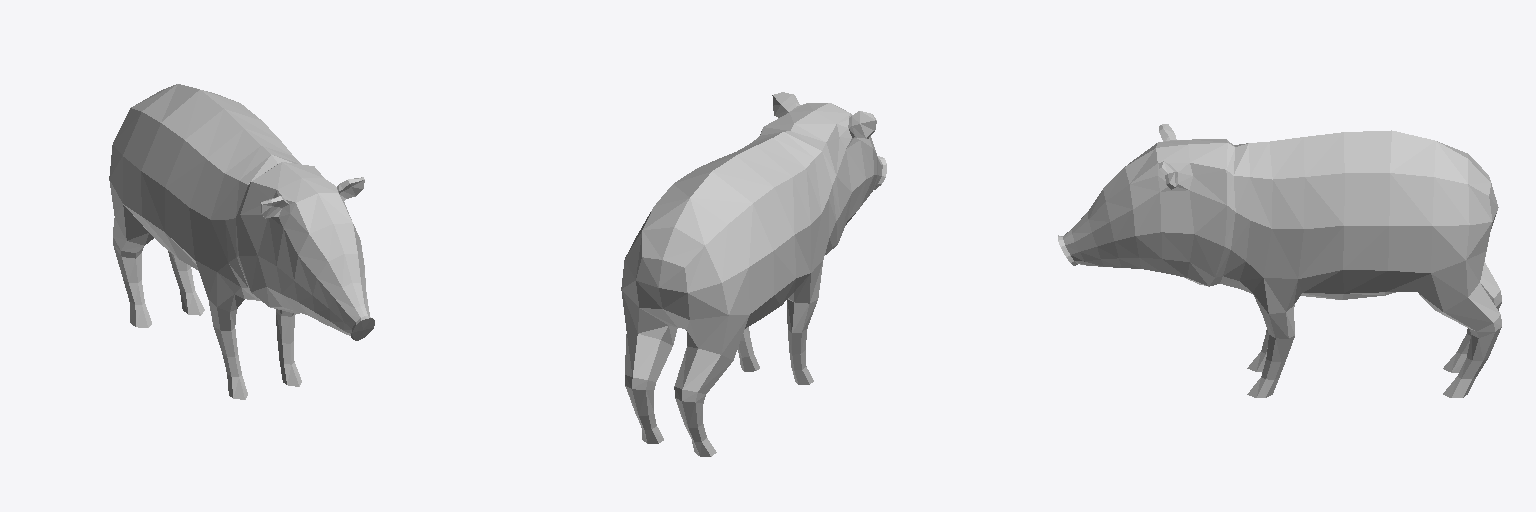
Rendered from pig_to.obj.
3 views of the same model, side by side, from view 1: azimuth 30°, elevation 25°; view 2: azimuth 150°, elevation 25°; view 3: azimuth 270°, elevation 25° (orthographic).
Visible parts, largest first — view 1: obj1; view 2: obj1; view 3: obj1.
Part boxes in pixels (x1,y1,x2,y2): obj1: (109, 84, 374, 399); obj1: (621, 92, 886, 456); obj1: (1058, 124, 1501, 397).
Bounding box in the file's own units: 0.7042 × 1.4 × 2.25.